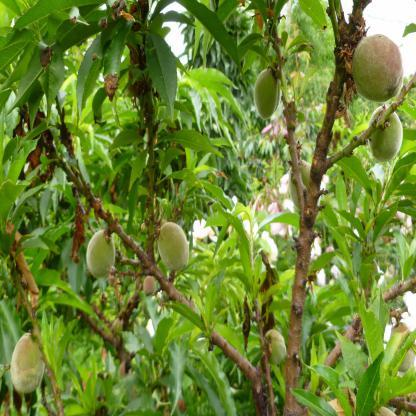Peach leaf: (184, 0, 244, 78), (146, 31, 178, 122), (302, 362, 351, 416), (359, 289, 386, 376), (353, 352, 384, 416), (167, 334, 189, 416), (288, 386, 335, 416), (160, 132, 224, 152)
